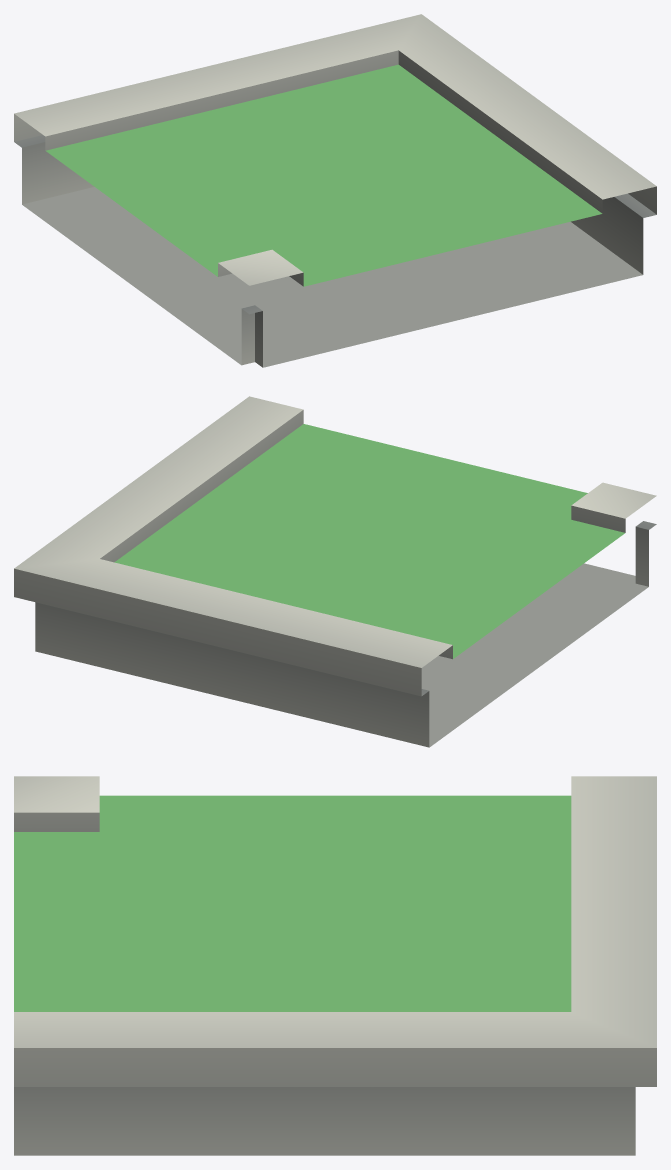
File: Planter_Corner_Large_01.fbx
3 views of the same model, one above another, from view 1: azimuth 30°, elevation 25°; view 2: azimuth 150°, elevation 25°; view 3: azimuth 270°, elevation 25° (orthographic). The views are drawn at different scales.
Parts seen in each view (by area): view 1: Planter_Corner_Large_01; view 2: Planter_Corner_Large_01; view 3: Planter_Corner_Large_01.
Boxes of the visible parts, x1,y1,x2,y2 form: Planter_Corner_Large_01: [14, 14, 656, 367]; Planter_Corner_Large_01: [14, 396, 656, 747]; Planter_Corner_Large_01: [14, 776, 656, 1155].
Bounding box in the file's own units: 300 × 60 × 300.
